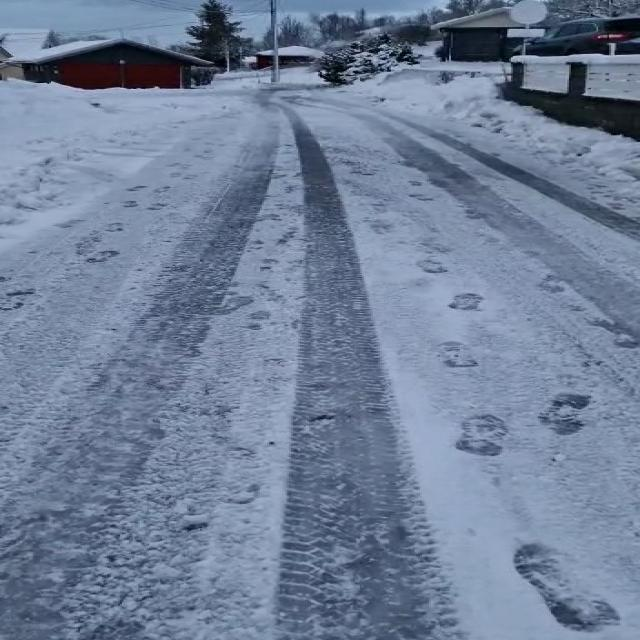path: (0, 86, 640, 640)
